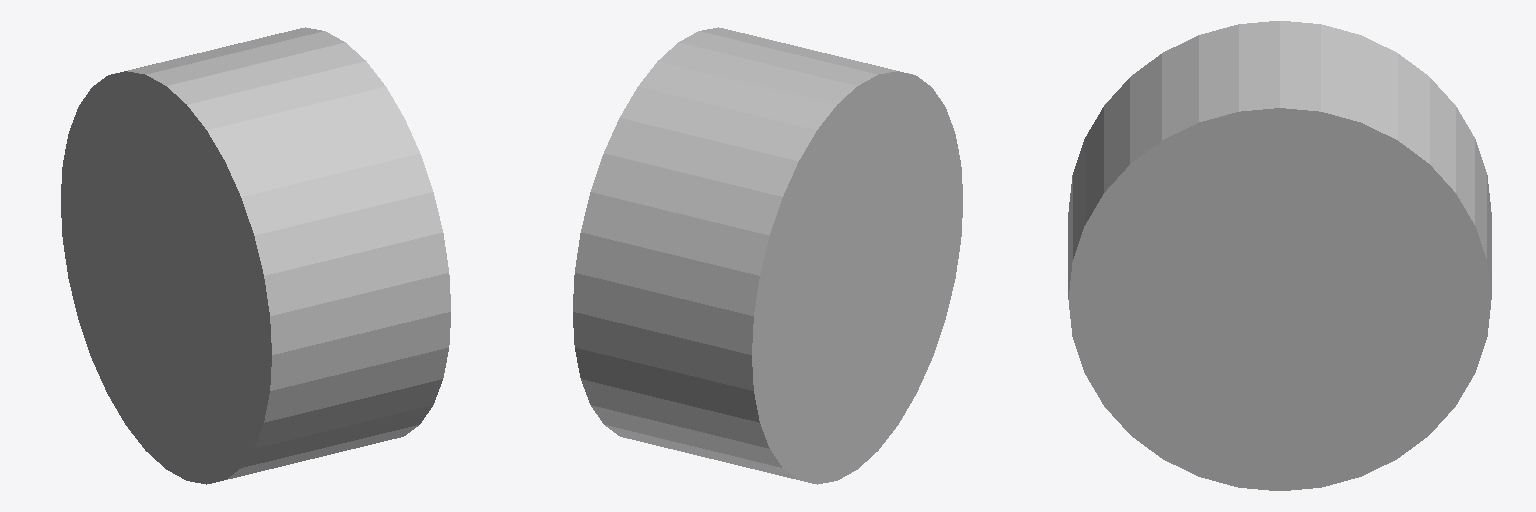
The model's file is frontleft.obj.
The picture shows the model from 3 angles: view 1: azimuth 30°, elevation 25°; view 2: azimuth 150°, elevation 25°; view 3: azimuth 270°, elevation 25°; orthographic projection.
Bounding box in the file's own units: 0.1019 × 0.2083 × 0.2083.